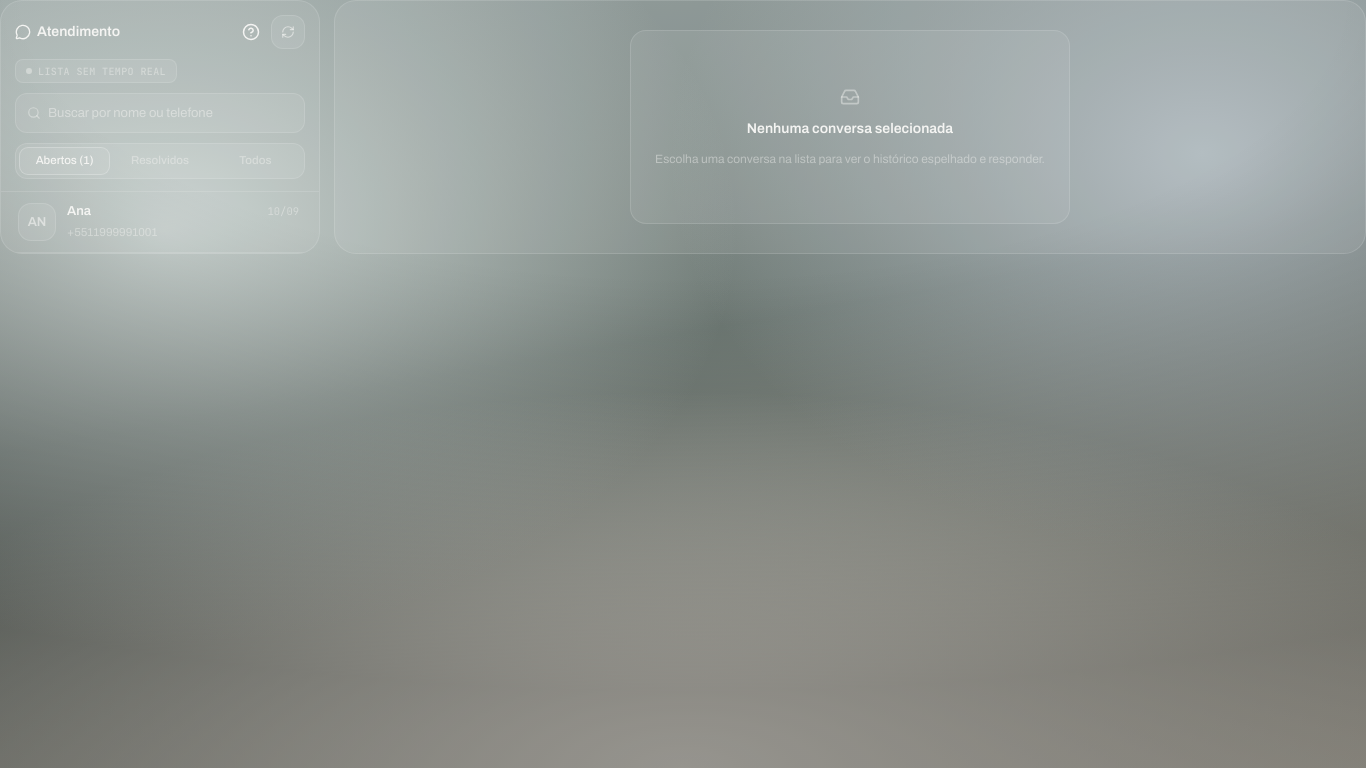
Test: MensageriaDesktop — envio › atendimento (MSG-009) › assumir a conversa de outro atendente pede confirmação antes de transferir
The width and height of the screenshot is (1366, 768).
Click the text "Ana" at (79, 211), box [67,203,91,220]
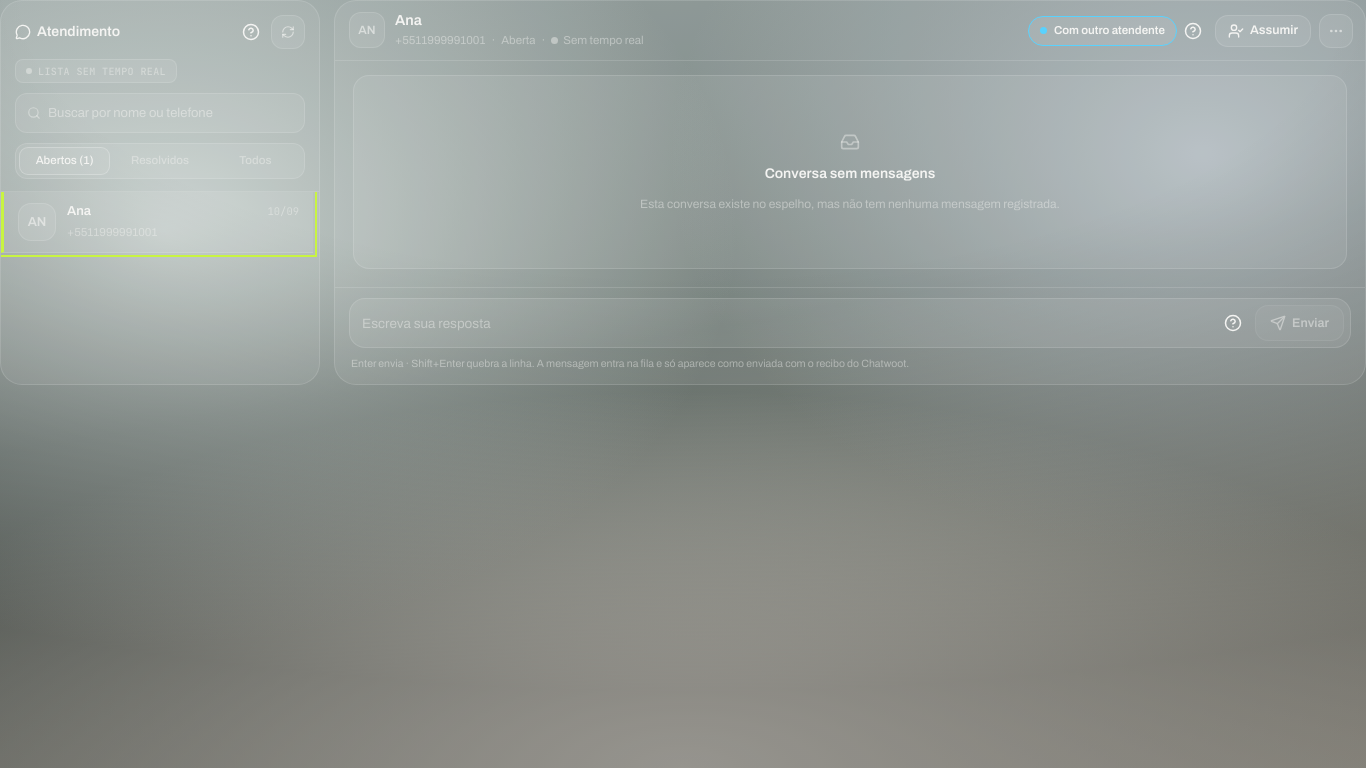
expect the text named "Quem atende" reads "Com outro atendente": met, box [1054,24,1165,36]
Click the button with aria-label "Assumir atendimento" at (1263, 30), box [1215,14,1311,46]
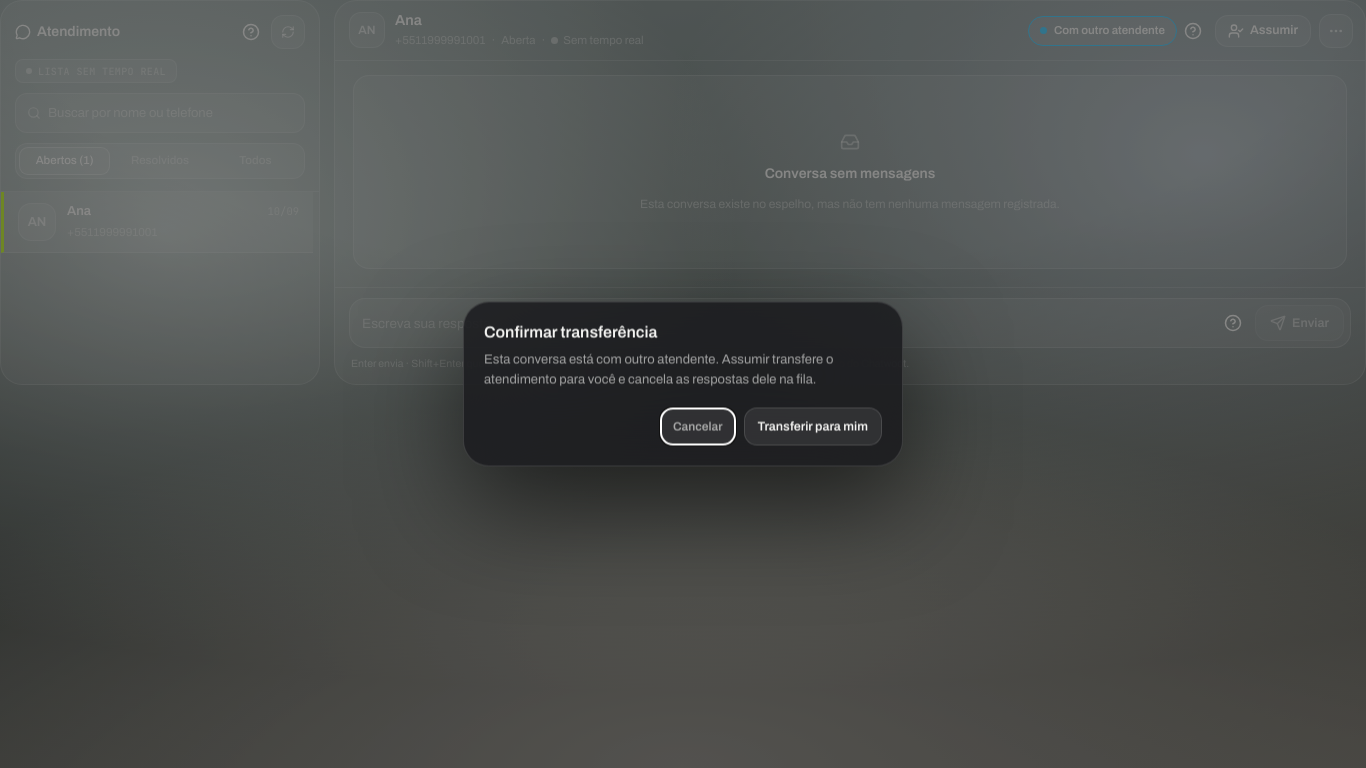
expect the dialog "Confirmar transferência" shows "Esta conversa está com outro atendente": met, box [484,352,833,386]
Click the button "Cancelar" at (698, 426), box [660,408,736,446]
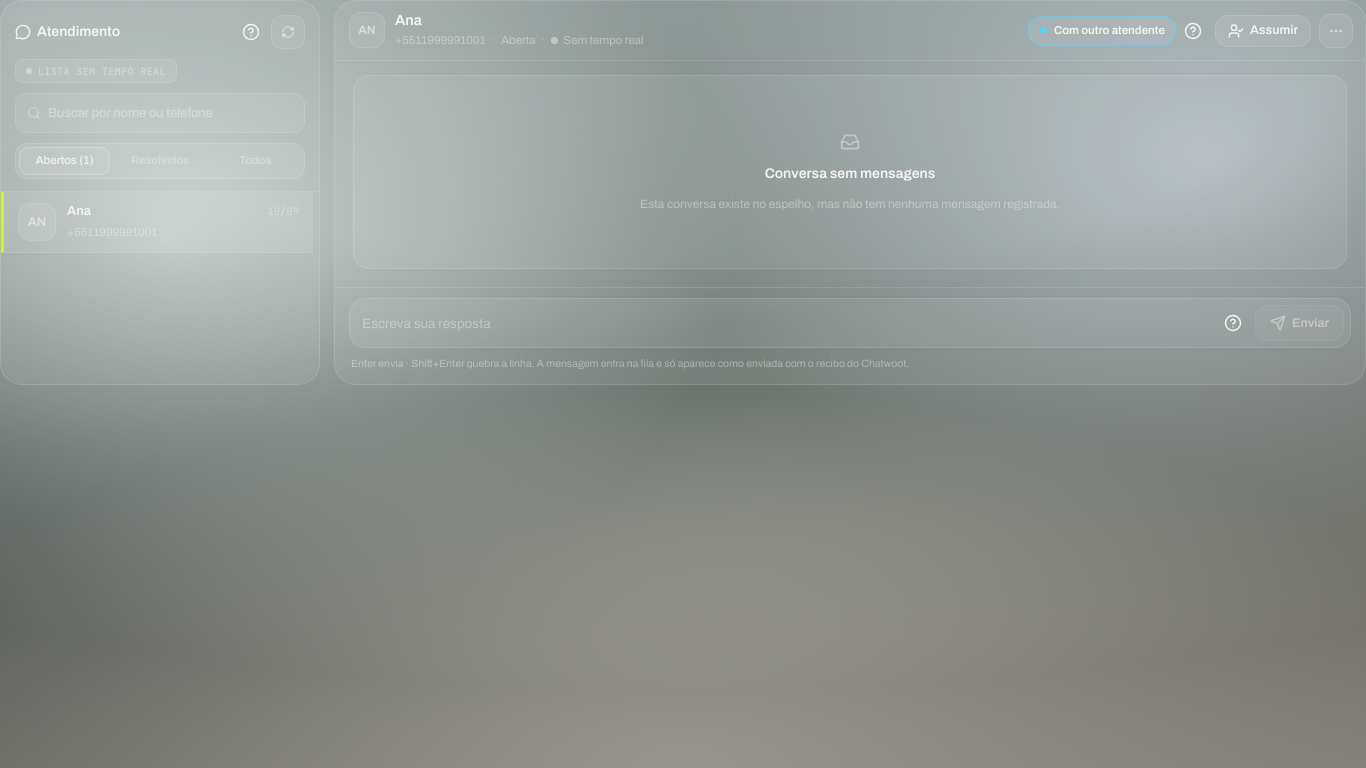
expect the heading "Confirmar transferência" is gone: met
Click the button with aria-label "Assumir atendimento" at (1263, 30), box [1215,14,1311,46]
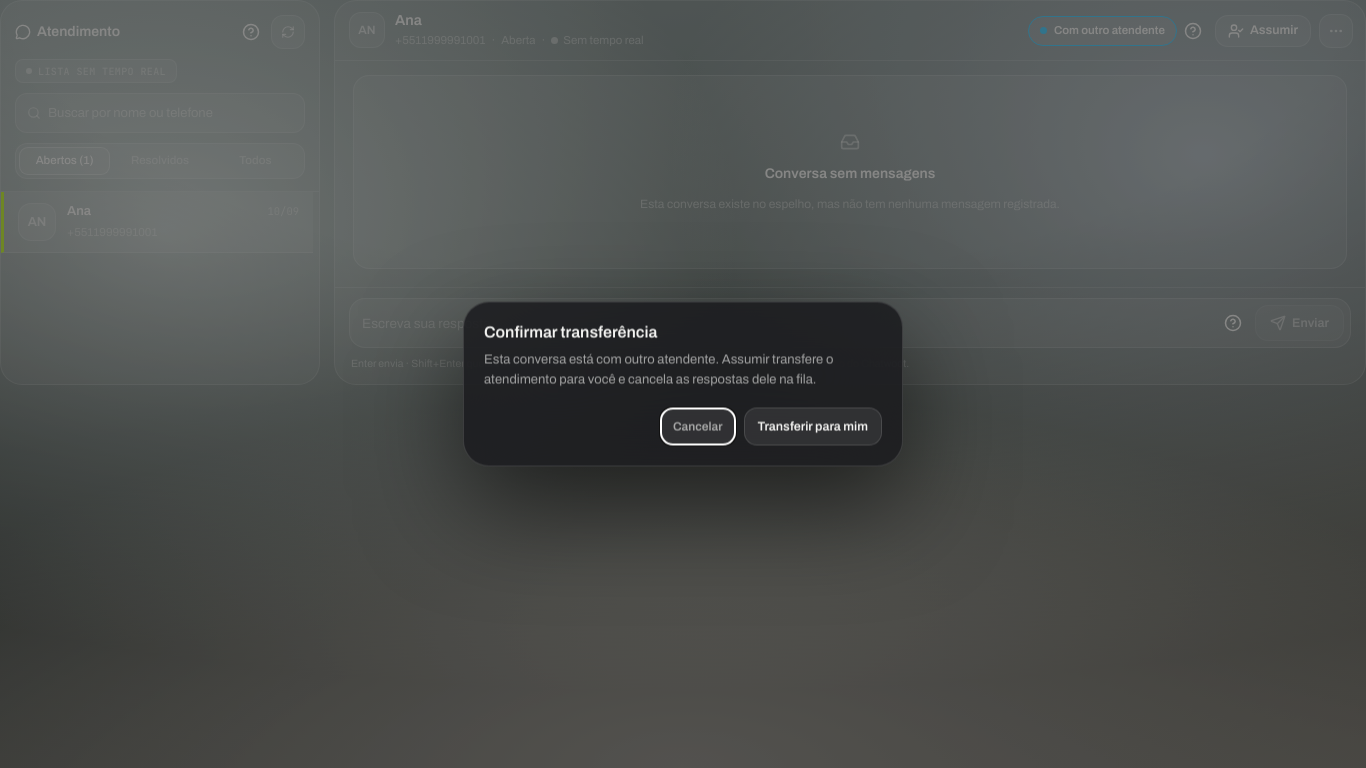
Click the button "Transferir para mim" at (813, 426), box [744,408,882,446]
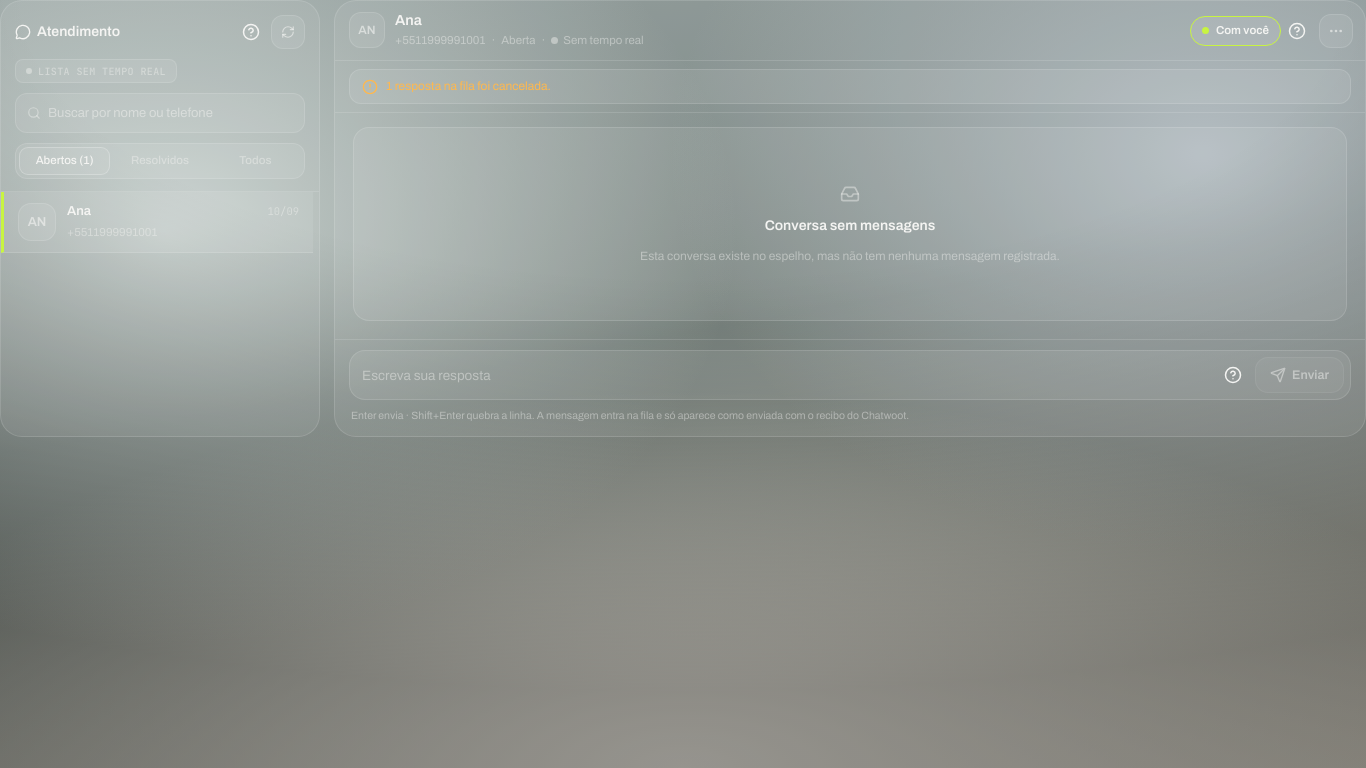
expect the text named "Quem atende" reads "Com você": met, box [1216,24,1269,36]
expect the text "1 resposta na fila foi cancelada." is shown: met, box [386,78,551,94]
